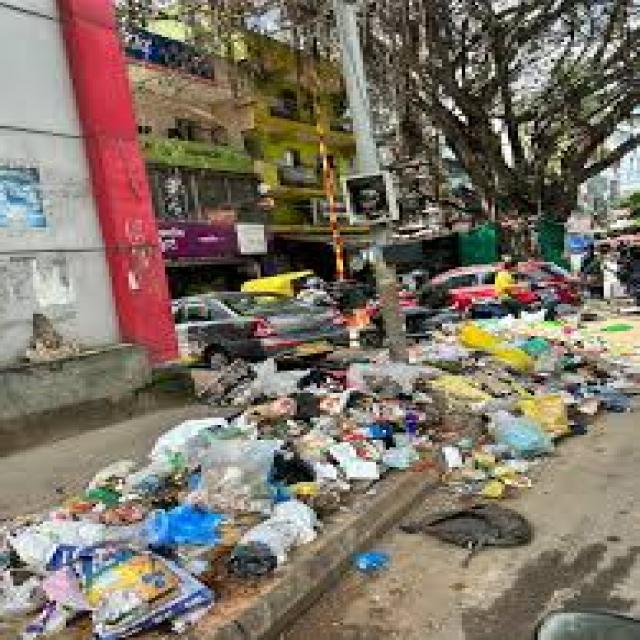garbage: (0, 321, 574, 638)
